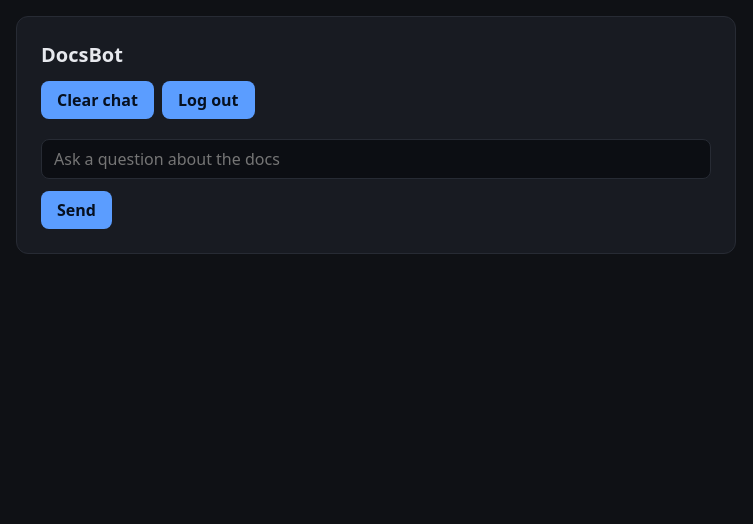
Test: Chat › submitting a question streams tokens into an assistant message
The width and height of the screenshot is (753, 524).
Type "what is RAG?" into the field at (376, 159), box [41,139,711,179]
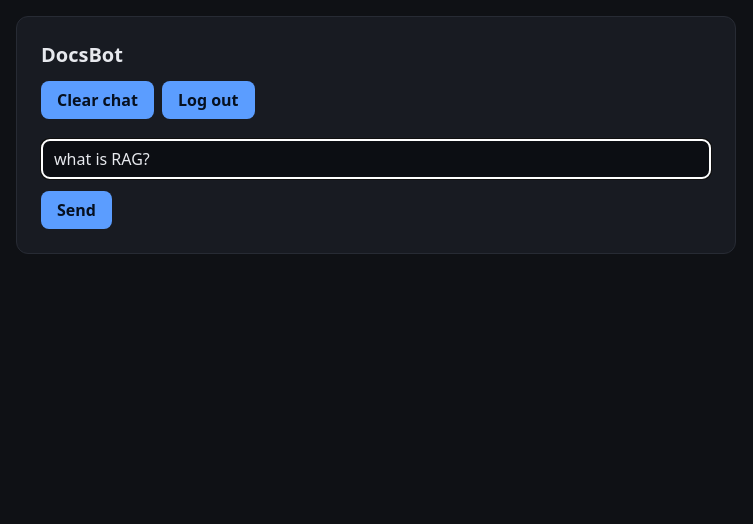
Click the button "Send" at (76, 210), box [41,191,112,229]
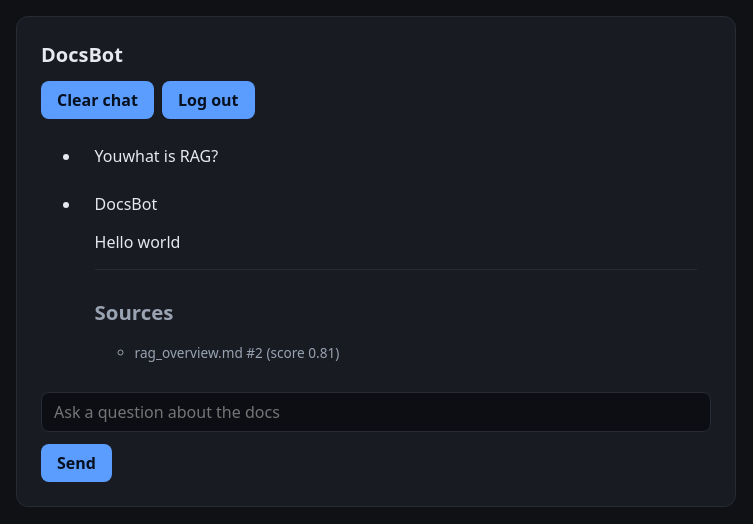
Expected: the text "Hello world" is shown, [95,231,180,253]
